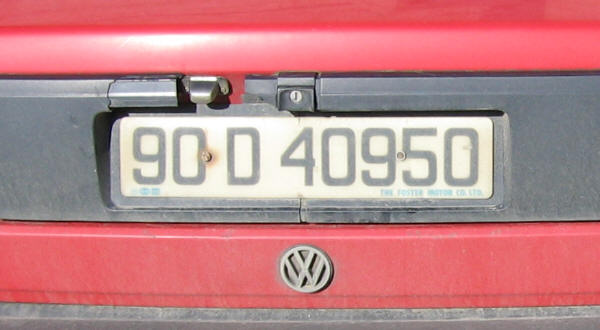license_plate: (119, 115, 494, 199)
